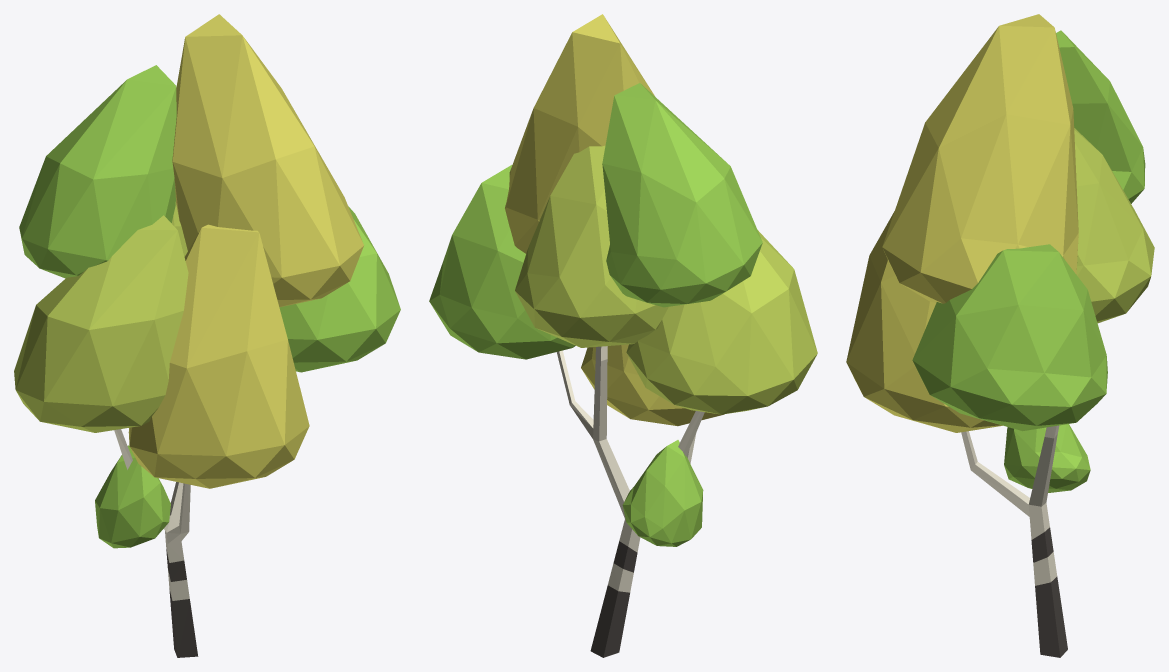
File: Birchtree.glb
The picture shows the model from 3 angles, left to right: view 1: azimuth 30°, elevation 25°; view 2: azimuth 150°, elevation 25°; view 3: azimuth 270°, elevation 25°; orthographic projection. The views are drawn at different scales.
Parts seen in each view (by area): view 1: Cube_004; view 2: Cube_004; view 3: Cube_004.
Part boxes in pixels (<box>): Cube_004: <box>14,14,400,657</box>; Cube_004: <box>429,14,817,657</box>; Cube_004: <box>846,14,1154,657</box>.
Bounding box in the file's own units: 4.68 × 7.69 × 3.35.
Materials: 2 (2 with a texture image).
